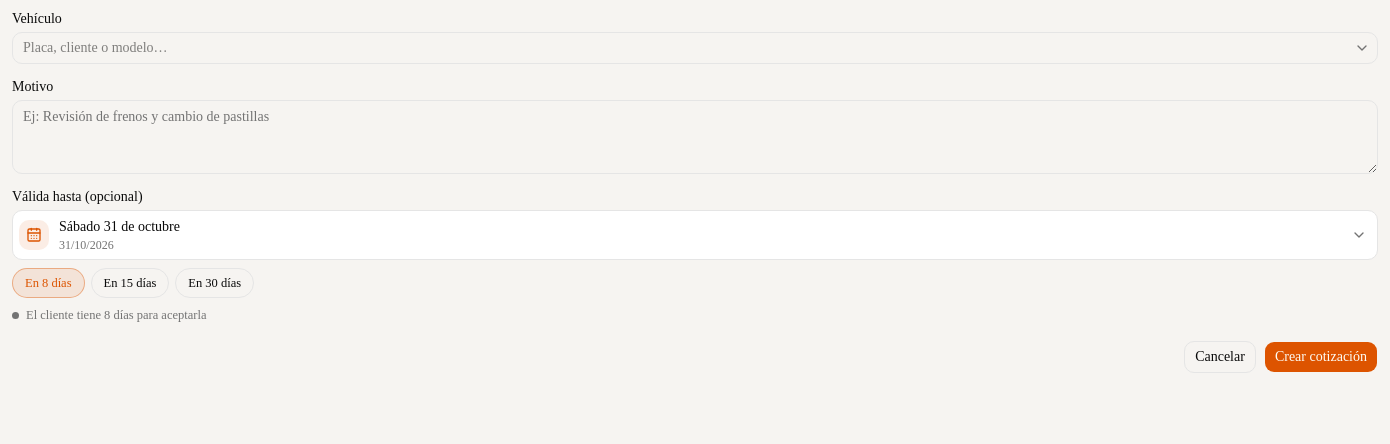
it: NuevaCotizacionForm › shows the server error and does not navigate when the action fails
This screenshot has width=1390, height=444.
Click the dropdown at (695, 48), box [12,32,1378,64]
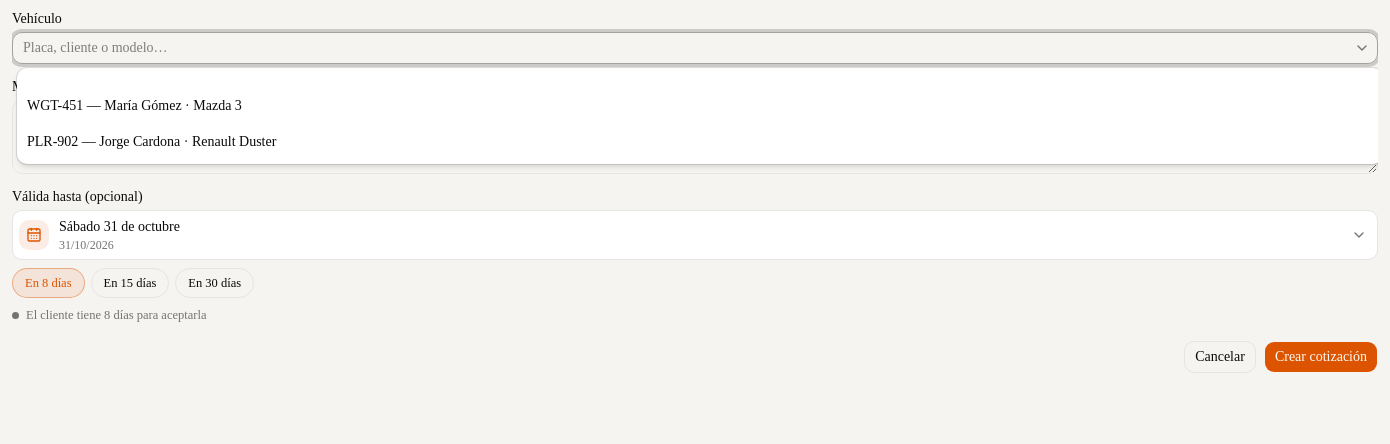
Click the option "WGT-451 — María Gómez · Mazda 3" at (134, 106), box [27,98,242,113]
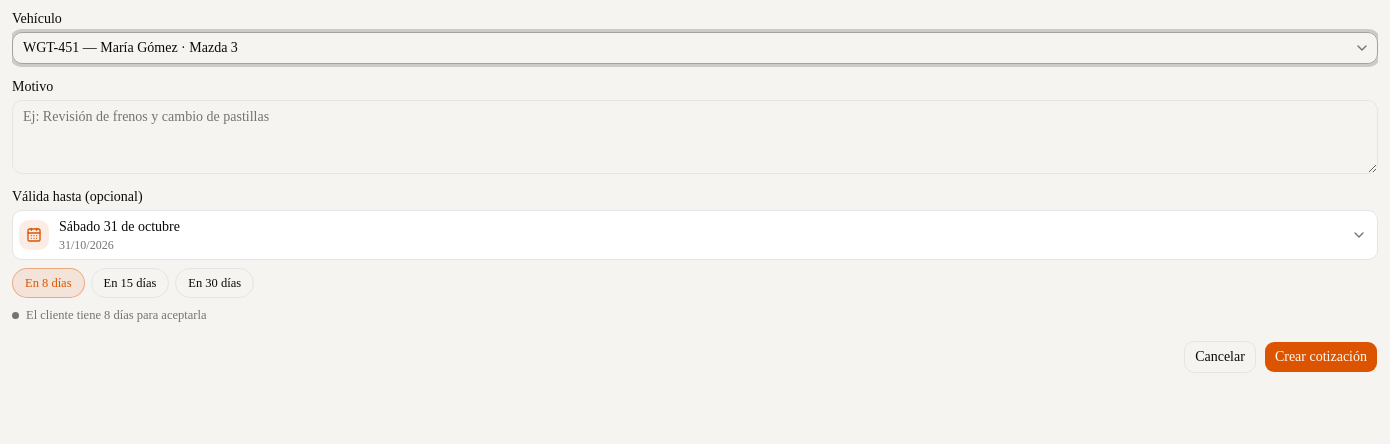
Type "Revisión de frenos" into the text box labelled "Motivo" at (695, 137), box [12,100,1378,174]
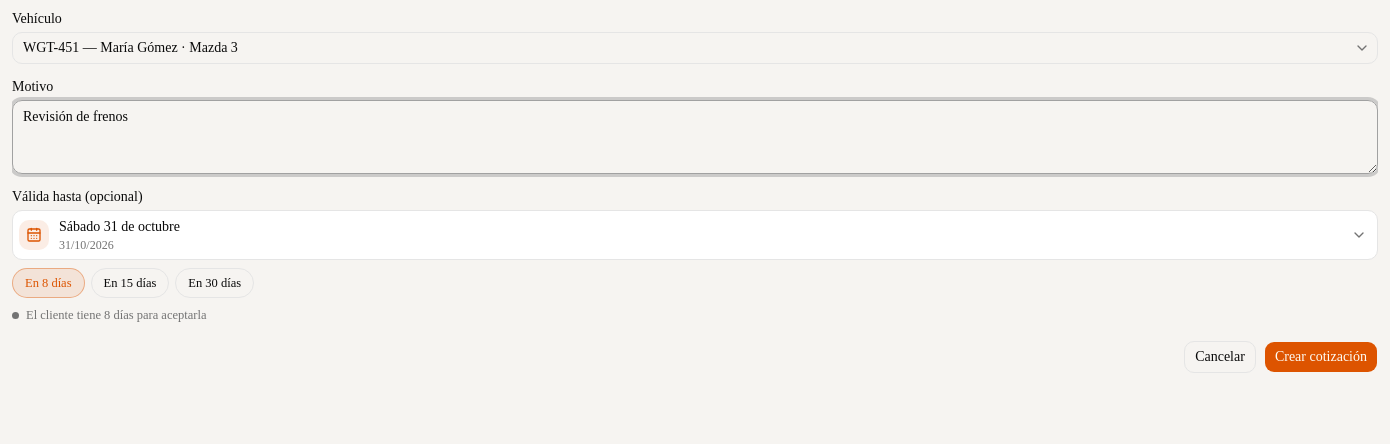
Click the button "Crear cotización" at (1321, 357), box [1264,341,1378,373]
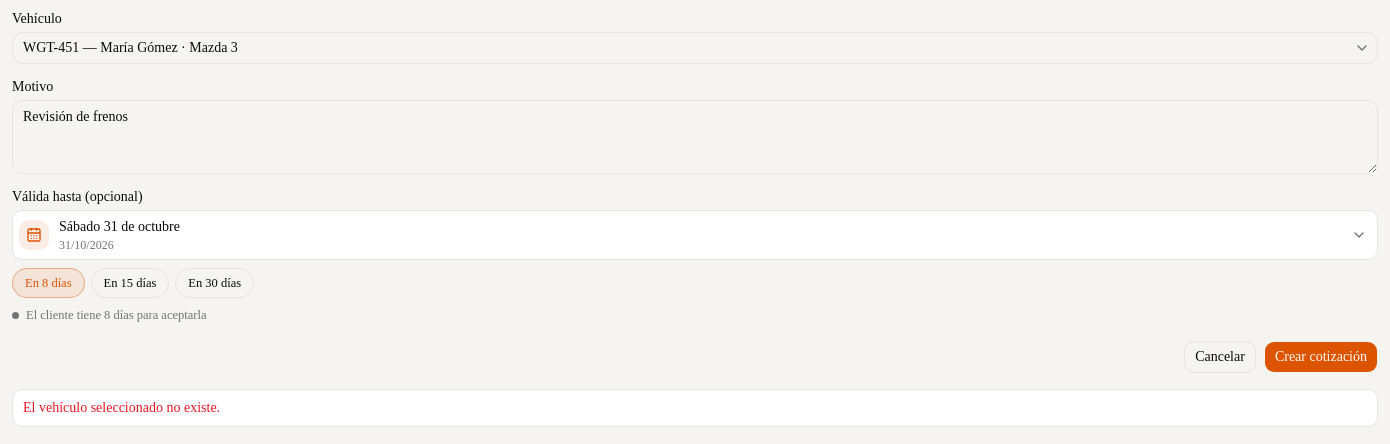
Expected: the message reads "El vehículo seleccionado no existe.", [23,400,220,415]
